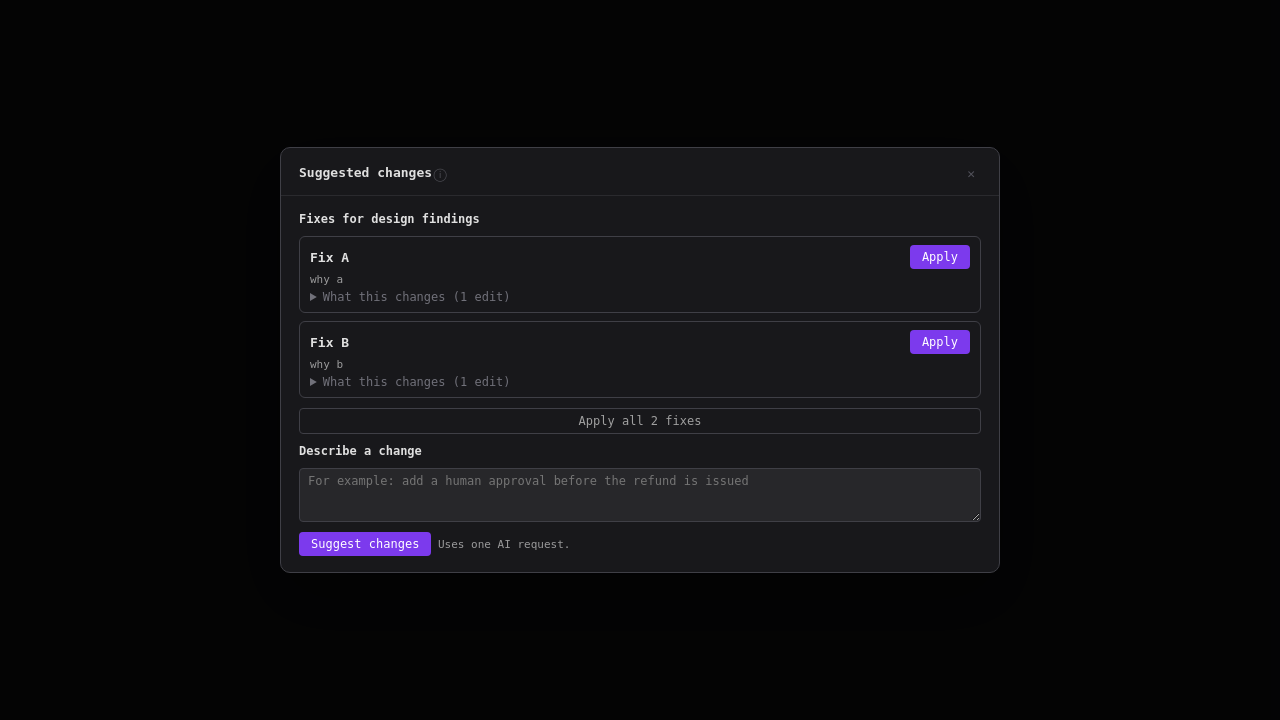
it: SuggestionsModal — describe a change › says when the AI had nothing usable
Expected: the text "Fix A" is shown, [310, 250, 349, 264]
Replace the text in the text box named "Describe the change" with "add a human approval" at (640, 495), box [299, 468, 981, 522]
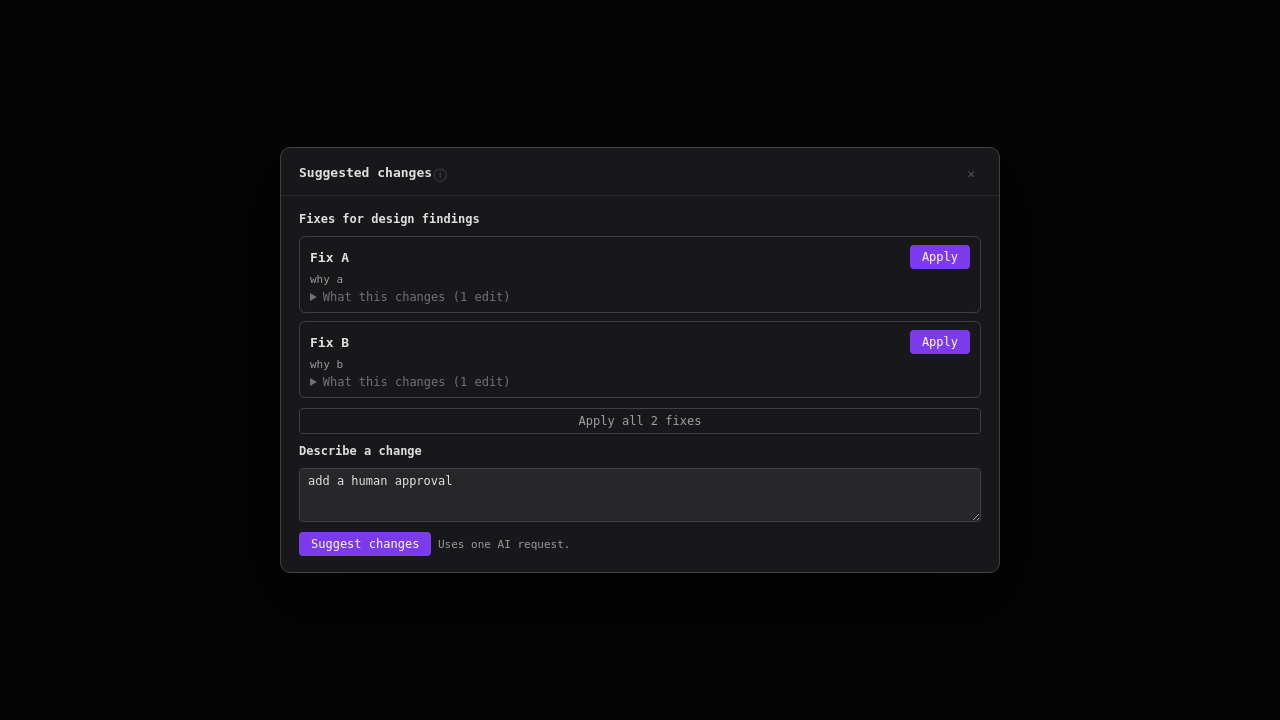
Click the button "Suggest changes".
click(365, 544)  # box [299, 532, 431, 556]
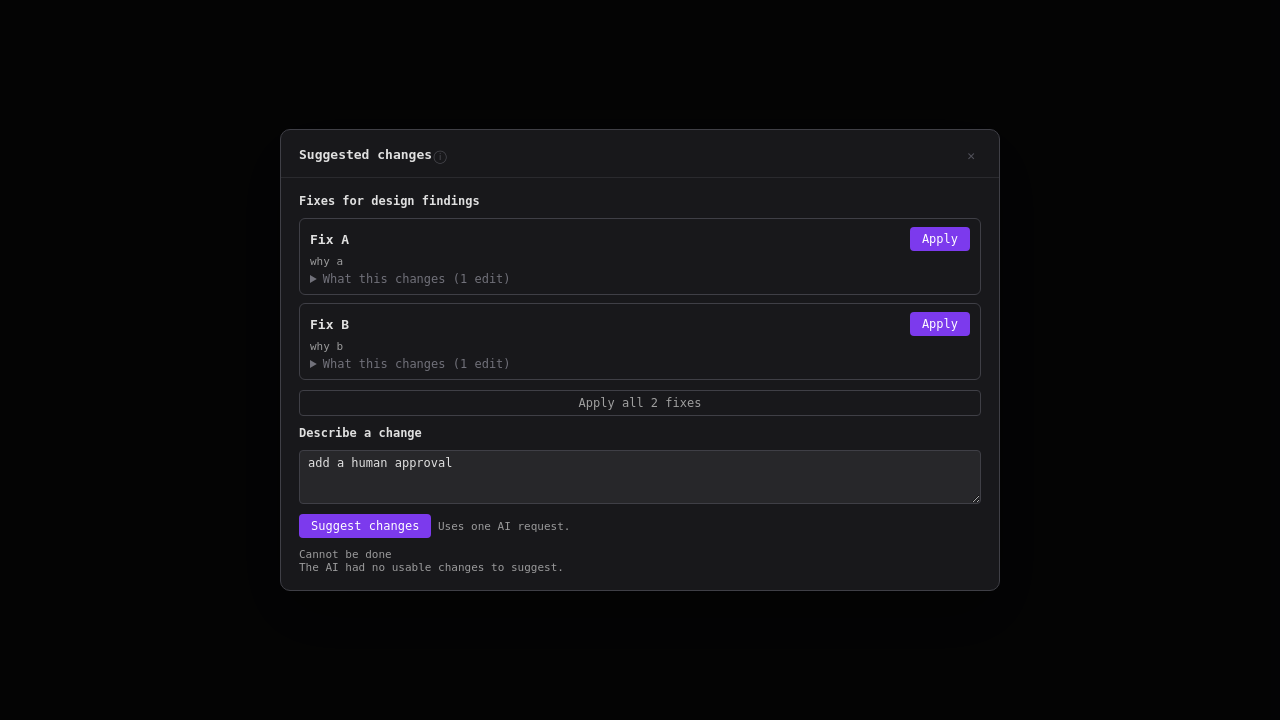
Expected: the text "The AI had no usable changes to suggest." is shown, [299, 561, 564, 574]
Expected: the text "Cannot be done" is shown, [299, 548, 392, 561]
